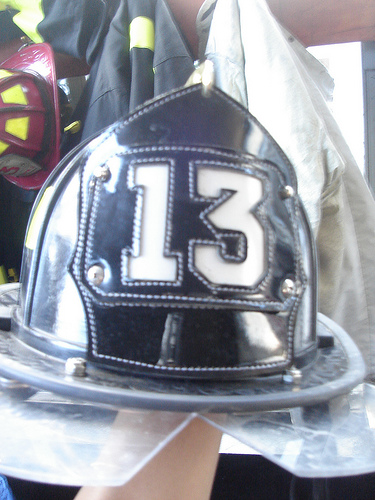helmet: (27, 130, 358, 423)
